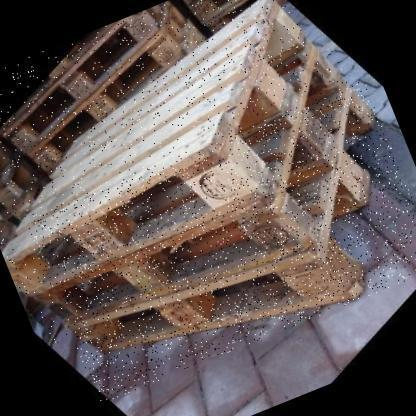pallet: (2, 2, 380, 355)
